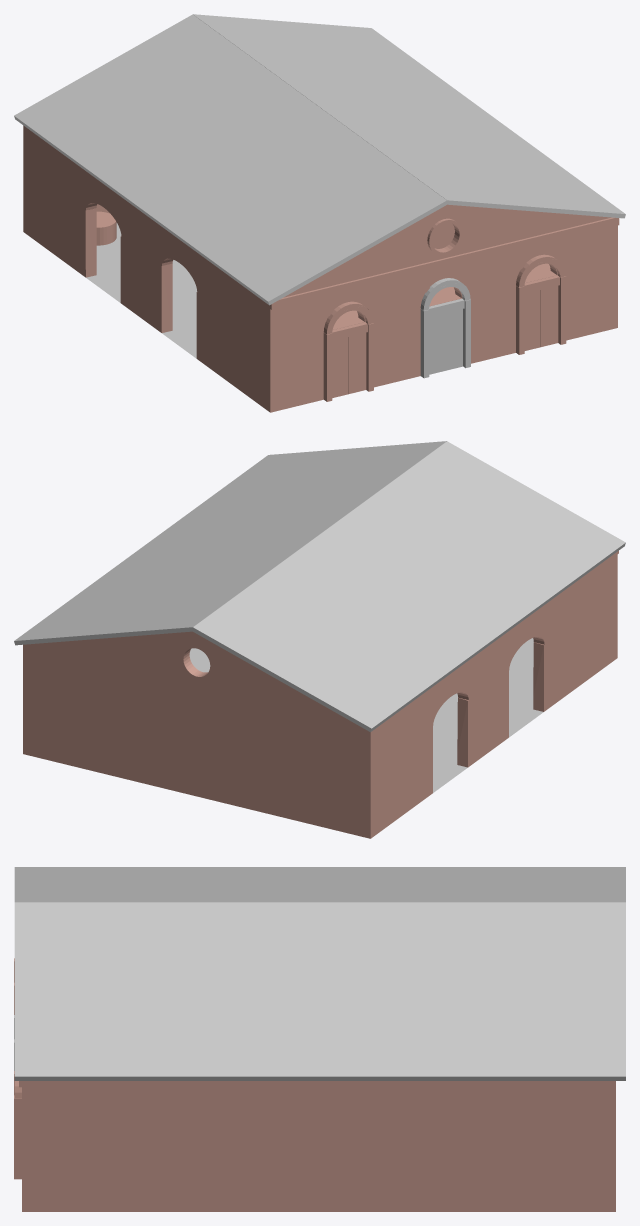
Rendered from iphan_v6.obj.
3 views of the same model, one above another, from view 1: azimuth 30°, elevation 25°; view 2: azimuth 150°, elevation 25°; view 3: azimuth 270°, elevation 25° (orthographic). The views are drawn at different scales.
Parts seen in each view (by area): view 1: Ceiling, Room, Floor, Building_Frame, Door_Frame.002, Door_Frame.001, Door_Frame.003, Door_Three_Right, Door_Two_Right, Door_One_Right, Door_One_Left, Door_Two_Left (+3 smaller); view 2: Ceiling, Room, Floor; view 3: Ceiling, Room, Door_Frame.003.
Boxes of the visible parts, left/top/right/bottom form: Ceiling: left=14, top=14, right=625, bottom=305; Room: left=23, top=125, right=617, bottom=412; Floor: left=86, top=223, right=197, bottom=358; Building_Frame: left=270, top=217, right=619, bottom=309; Door_Frame.002: left=323, top=301, right=373, bottom=401; Door_Frame.001: left=420, top=278, right=470, bottom=378; Door_Frame.003: left=516, top=254, right=566, bottom=354; Door_Three_Right: left=540, top=285, right=558, bottom=347; Door_Two_Right: left=348, top=332, right=366, bottom=394; Door_One_Right: left=445, top=309, right=462, bottom=370; Door_One_Left: left=429, top=313, right=444, bottom=374; Door_Two_Left: left=332, top=337, right=347, bottom=397; Ceiling: left=14, top=441, right=625, bottom=732; Room: left=23, top=552, right=617, bottom=838; Floor: left=189, top=638, right=543, bottom=792; Ceiling: left=14, top=867, right=625, bottom=1080; Room: left=22, top=1081, right=615, bottom=1211; Door_Frame.003: left=14, top=1071, right=21, bottom=1179.
Size of the model in its own units: 13.38 by 6.16 by 16.48.
